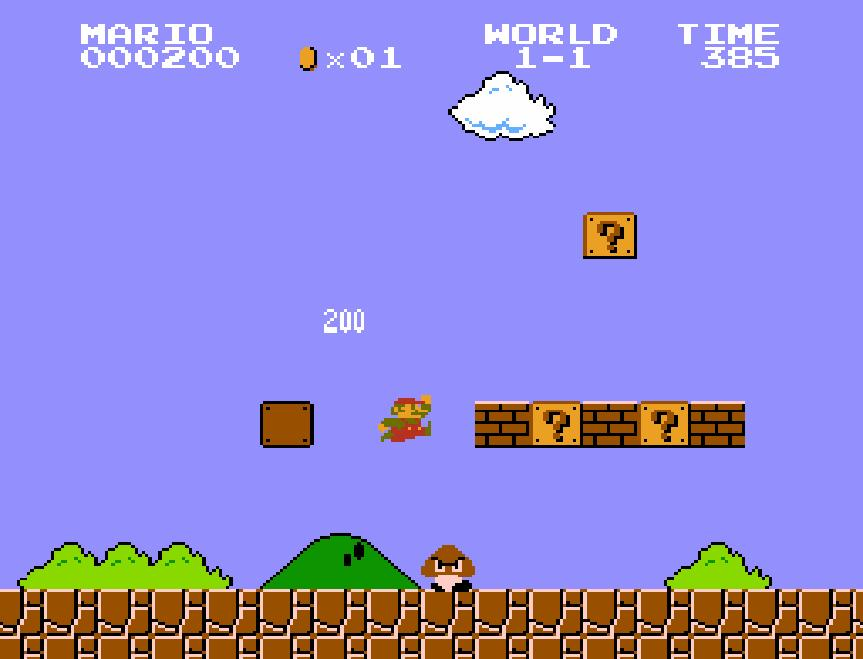little_mario: (376, 393, 434, 443)
